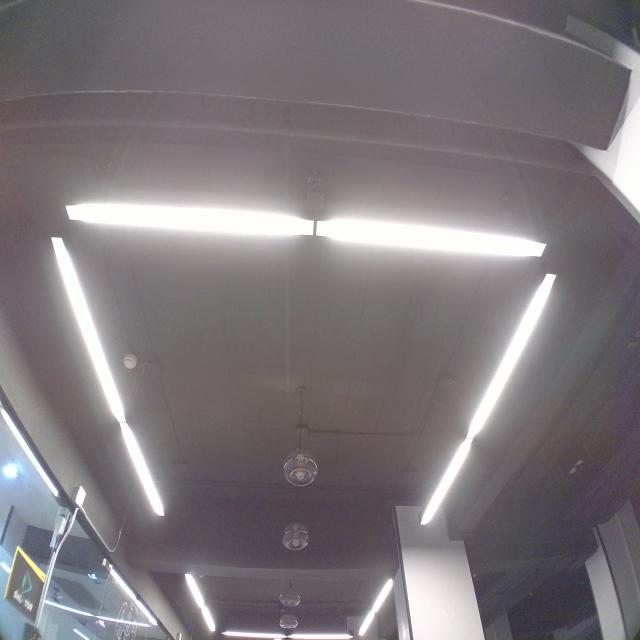lamp2_on: (410, 271, 569, 535), (44, 230, 175, 525), (59, 189, 557, 266)
